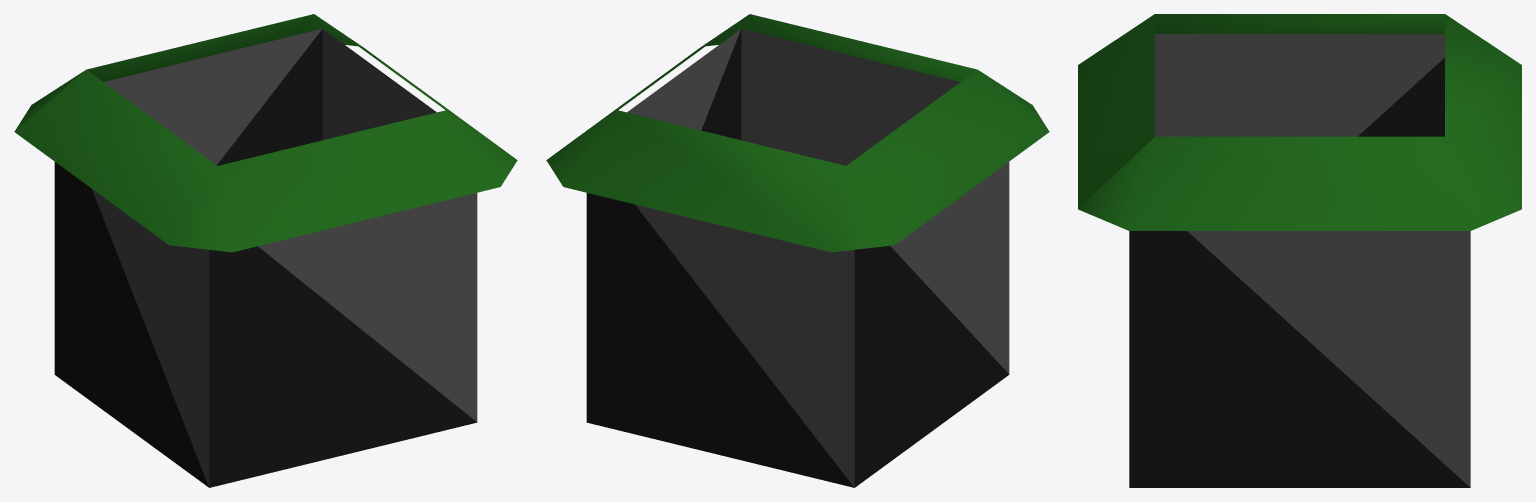
Rendered from hill.obj.
3 renders of one model, left to right at view 1: azimuth 30°, elevation 25°; view 2: azimuth 150°, elevation 25°; view 3: azimuth 270°, elevation 25°, orthographic. The views are drawn at different scales.
Parts seen in each view (by area): view 1: Cube.001, Cube.008, Cube.010, Cube.009, Cube.007, Cube, Cube.006, Cube.005; view 2: Cube.001, Cube.005, Cube, Cube.009, Cube.010, Cube.007, Cube.006, Cube.004; view 3: Cube.001, Cube.004, Cube.006, Cube.007, Cube.009.
Boxes of the visible parts, box(x1,y1,x2,y2) form: Cube.001: box(14, 14, 517, 252); Cube.008: box(209, 246, 476, 487); Cube.010: box(258, 193, 477, 421); Cube.009: box(54, 162, 208, 487); Cube.007: box(92, 189, 209, 487); Cube: box(103, 28, 322, 164); Cube.006: box(322, 29, 436, 139); Cube.005: box(217, 29, 322, 165); Cube.001: box(546, 14, 1049, 252); Cube.005: box(586, 193, 854, 487); Cube: box(635, 204, 854, 487); Cube.009: box(854, 246, 1009, 487); Cube.010: box(741, 28, 960, 165); Cube.007: box(890, 162, 1009, 373); Cube.006: box(627, 29, 740, 130); Cube.004: box(701, 29, 741, 139); Cube.001: box(1078, 14, 1521, 230); Cube.004: box(1129, 231, 1470, 487); Cube.006: box(1187, 231, 1470, 487); Cube.007: box(1155, 34, 1444, 136); Cube.009: box(1358, 58, 1444, 136).
Bounding box in the file's own units: 2.6 × 2.2 × 2.6.
